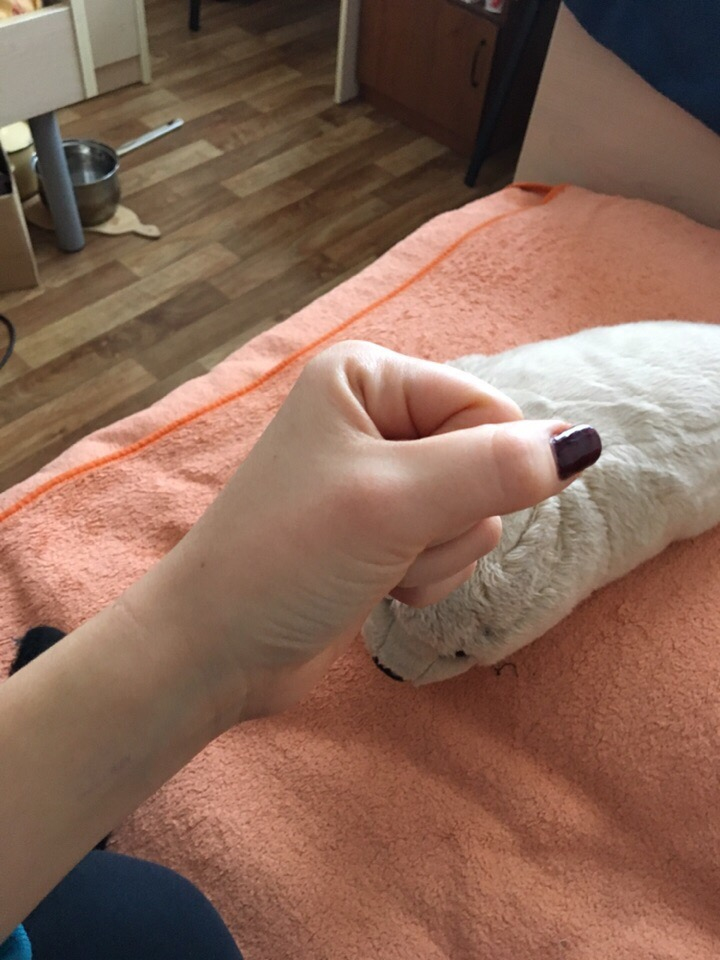hand: (268, 360, 578, 682)
